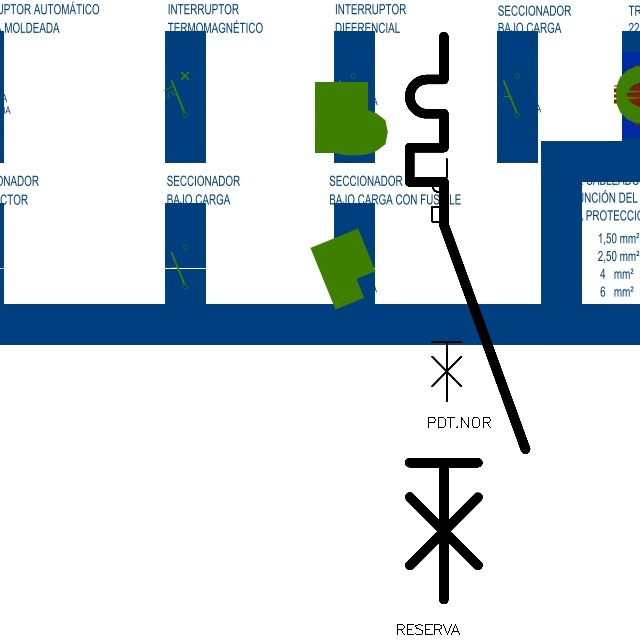interruptor_termomagnetico: (395, 22, 540, 614), (426, 153, 488, 407)
